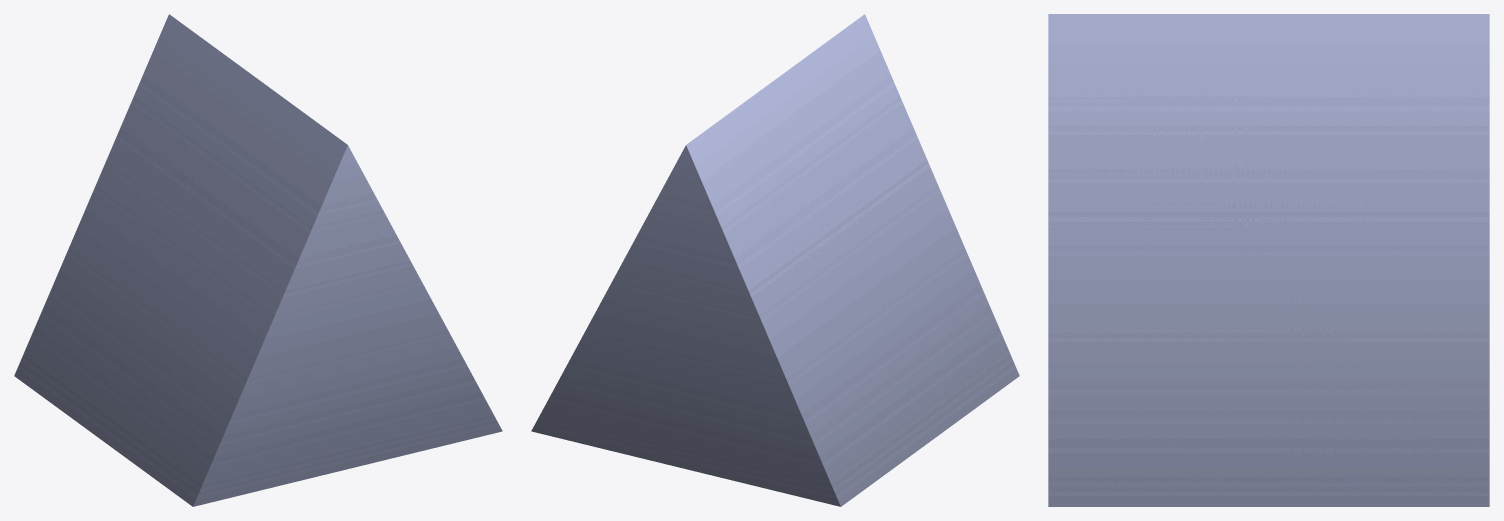
File: shape-triangular-prism.glb
3 renders of one model, left to right at view 1: azimuth 30°, elevation 25°; view 2: azimuth 150°, elevation 25°; view 3: azimuth 270°, elevation 25°, orthographic. The views are drawn at different scales.
Parts seen in each view (by area): view 1: shape-triangular-prism; view 2: shape-triangular-prism; view 3: shape-triangular-prism.
Part boxes in pixels (x1,y1,x2,y2): shape-triangular-prism: (14,14,502,506); shape-triangular-prism: (531,14,1019,506); shape-triangular-prism: (1048,14,1489,506).
Bounding box in the file's own units: 1 × 1 × 1.
Materials: 1 (1 with a texture image).
